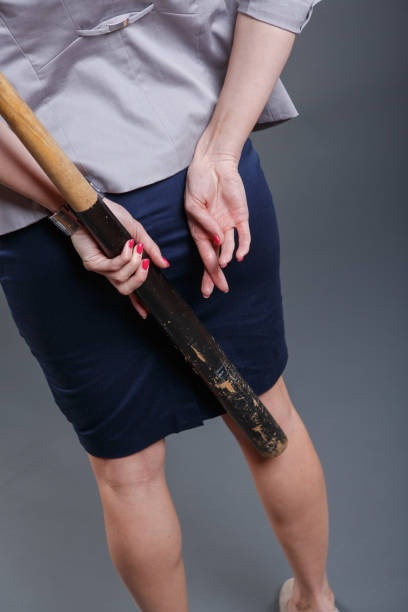bita: (1, 81, 288, 450)
